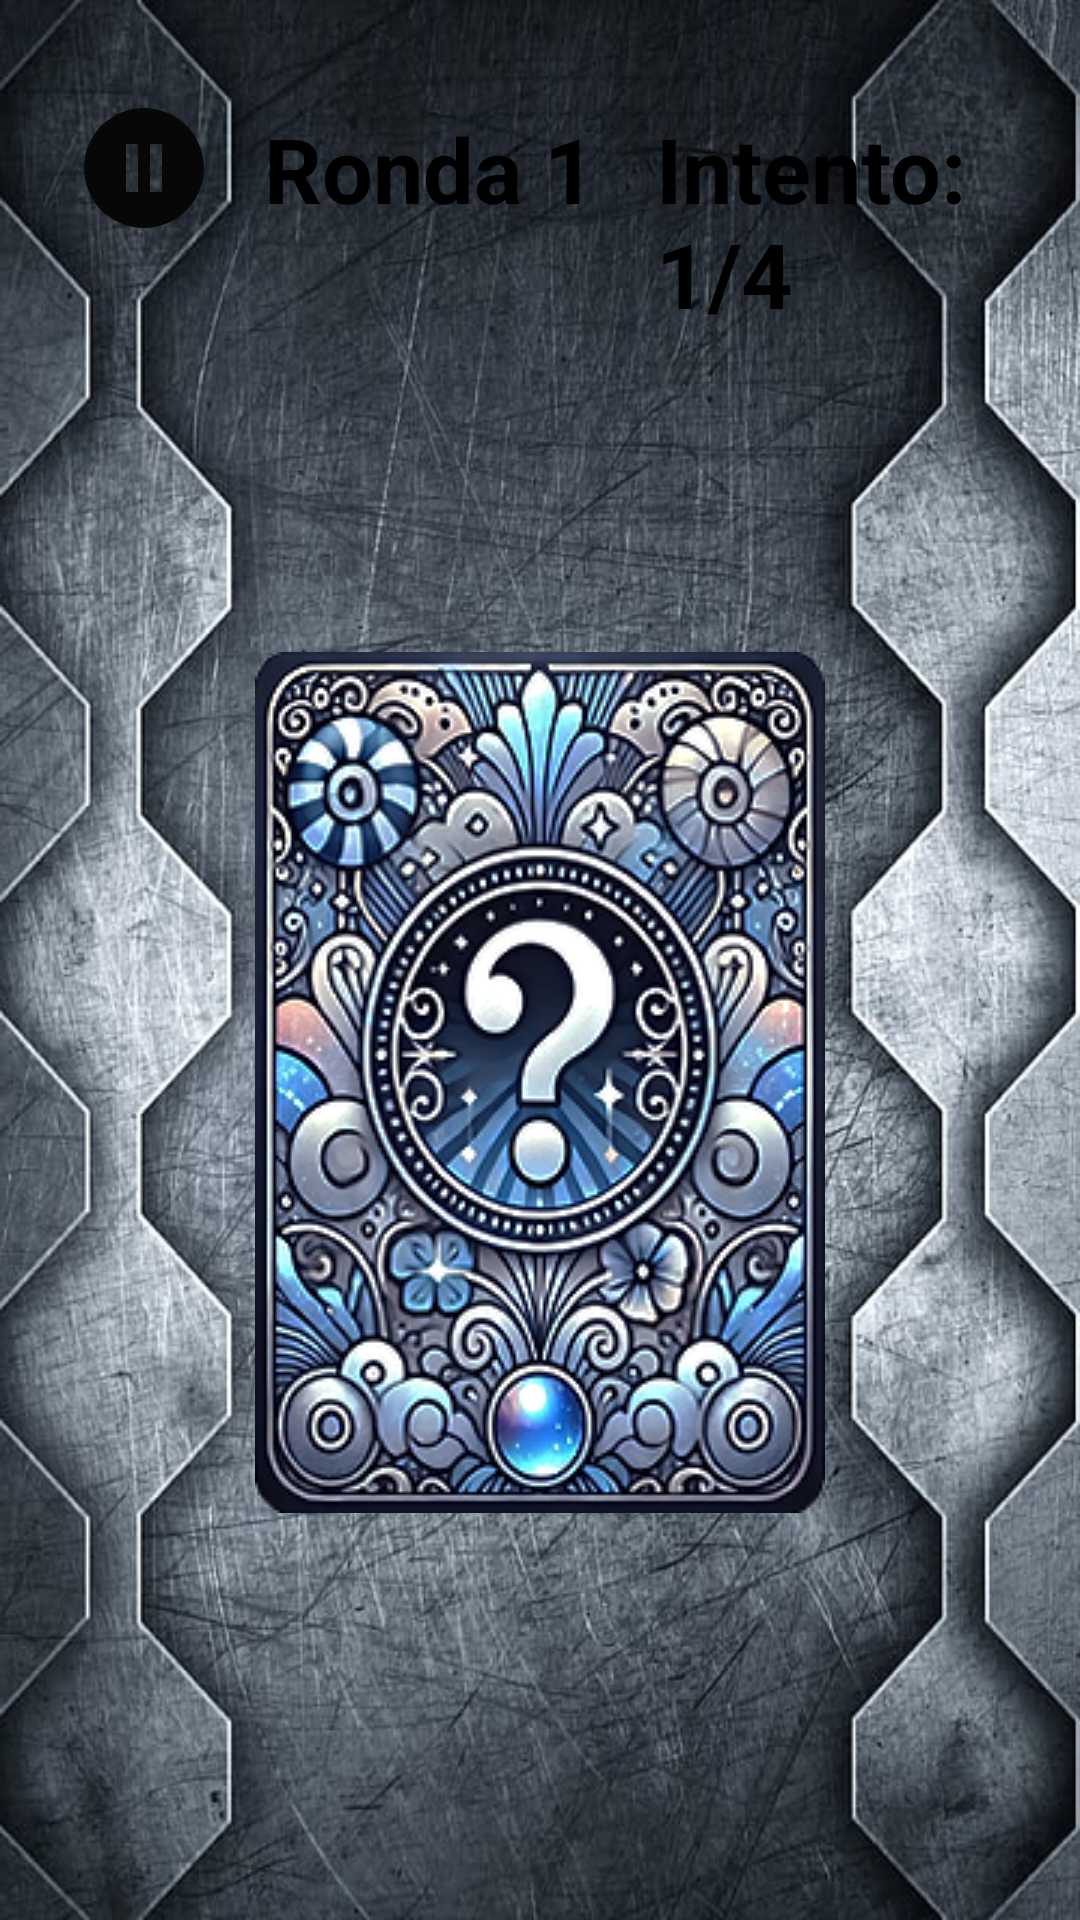

Icons on this 1080 x 1920 Android screen, each with the point to tap as (x,y):
Pause: (144,168)
